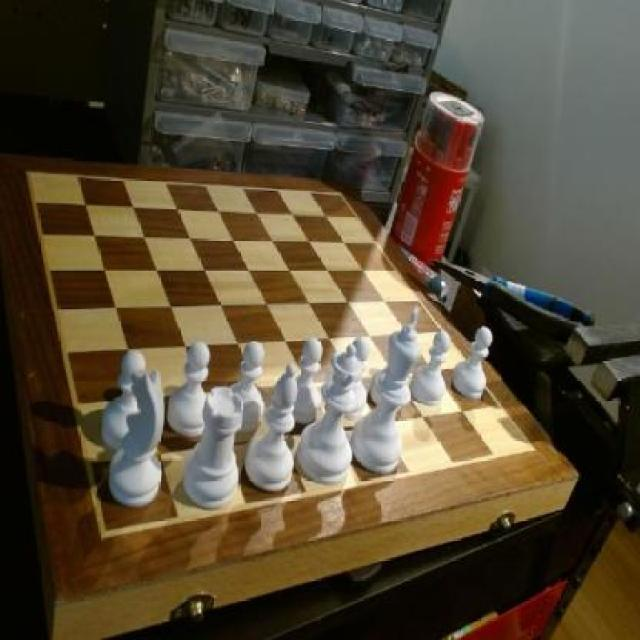black-rook: (249, 345, 298, 500)
white-bishop: (351, 298, 422, 477)
white-king: (106, 372, 170, 516)
white-knight: (100, 343, 151, 456), (166, 340, 219, 442), (226, 338, 272, 434), (286, 340, 325, 428), (454, 323, 494, 408), (417, 326, 448, 409), (343, 338, 369, 420)
white-pawn: (297, 328, 355, 488)
white-queen: (182, 386, 249, 515)
